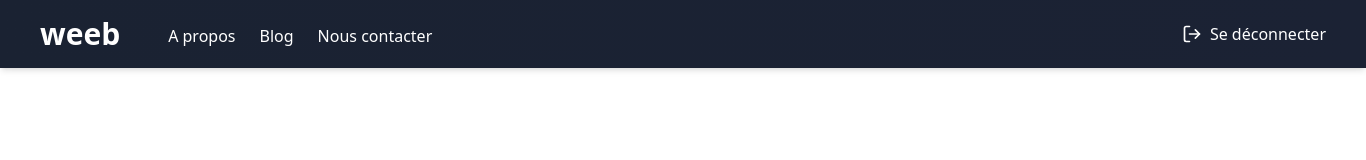
Test: Header (desktop) › efface les tokens et bascule l'UI quand on clique sur le bouton de déconnexion
What coordinates should you click on to do the following:
click the button "Se déconnecter"
I would click on:
 (1254, 34)
Its box is [1182,22,1326,46].
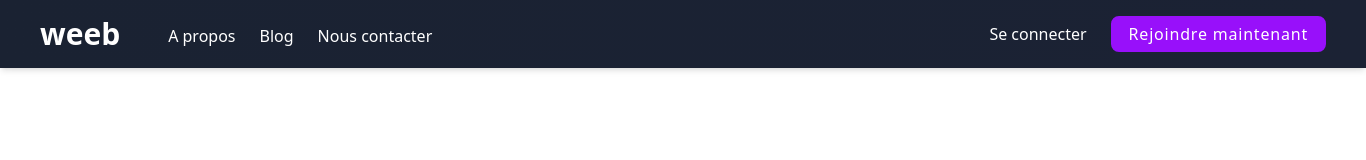
Expected: the link "Se connecter" is shown, [989,22,1087,46]
